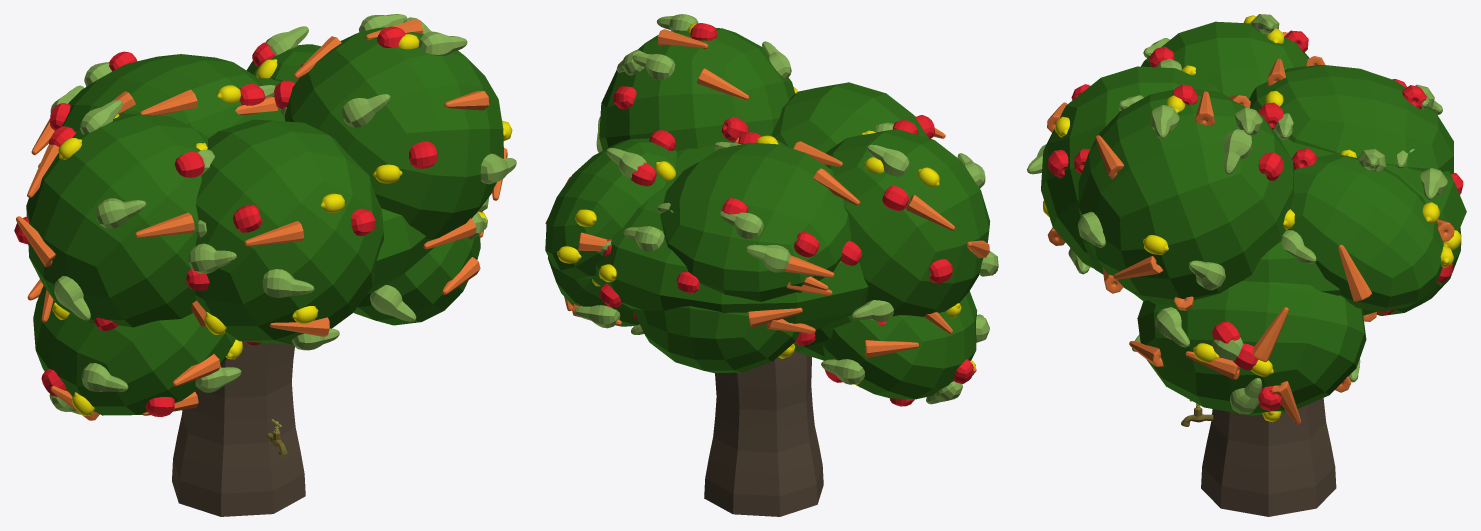
File: TreeBasic3.glb
The picture shows the model from 3 angles, left to right: view 1: azimuth 30°, elevation 25°; view 2: azimuth 150°, elevation 25°; view 3: azimuth 270°, elevation 25°; orthographic projection. The views are drawn at different scales.
Parts seen in each view (by area): view 1: Roundcube.003, Cylinder, Cube.030, Cube.046, Cube.051, Cube.020, Cube.049, Cube.025, Cube.063, Cube.056, Carrot.025, Carrot.045 (+16 smaller); view 2: Roundcube.003, Cylinder, Cube.057, Cube.029, Cube.050, Cube.061, Cube.060, Cube.003, Cube.017, Cube.031, Carrot.060, Cube.041 (+9 smaller); view 3: Roundcube.003, Cylinder, Cube.055, Cube.018, Carrot.038, Cube.023, Cube.053, Carrot.017, Cube.056, Cube.052, Cube.039, Cube.003 (+7 smaller).
Part boxes in pixels (x1=…): Roundcube.003: x1=26, y1=27, x2=503, y2=415; Cylinder: x1=172, y1=341, x2=305, y2=516; Cube.030: x1=95, y1=198, x2=146, y2=228; Cube.046: x1=262, y1=269, x2=314, y2=297; Cube.051: x1=342, y1=94, x2=390, y2=127; Cube.020: x1=370, y1=285, x2=416, y2=321; Cube.049: x1=188, y1=243, x2=236, y2=273; Cube.025: x1=54, y1=276, x2=90, y2=320; Cube.063: x1=81, y1=363, x2=128, y2=391; Cube.056: x1=419, y1=31, x2=467, y2=55; Carrot.025: x1=135, y1=212, x2=194, y2=237; Carrot.045: x1=244, y1=221, x2=304, y2=246; Roundcube.003: x1=545, y1=27, x2=990, y2=399; Cylinder: x1=704, y1=350, x2=823, y2=516; Cube.057: x1=746, y1=244, x2=790, y2=272; Cube.029: x1=867, y1=144, x2=909, y2=176; Cube.050: x1=632, y1=53, x2=675, y2=79; Cube.061: x1=821, y1=359, x2=864, y2=384; Cube.060: x1=719, y1=211, x2=763, y2=238; Cube.003: x1=623, y1=226, x2=664, y2=251; Cube.017: x1=574, y1=305, x2=620, y2=328; Cube.031: x1=852, y1=300, x2=893, y2=321; Carrot.060: x1=864, y1=340, x2=918, y2=357; Cube.041: x1=606, y1=148, x2=646, y2=178; Roundcube.003: x1=1041, y1=21, x2=1466, y2=415; Cylinder: x1=1201, y1=398, x2=1336, y2=516; Cube.055: x1=1224, y1=129, x2=1252, y2=174; Cube.018: x1=1155, y1=307, x2=1189, y2=347; Carrot.038: x1=1338, y1=244, x2=1371, y2=301; Cube.023: x1=1230, y1=378, x2=1262, y2=414; Cube.053: x1=1188, y1=260, x2=1225, y2=290; Carrot.017: x1=1253, y1=307, x2=1288, y2=362; Cube.056: x1=1150, y1=105, x2=1179, y2=138; Cube.052: x1=1077, y1=211, x2=1105, y2=247; Cube.039: x1=1281, y1=230, x2=1316, y2=263; Cube.003: x1=1420, y1=167, x2=1447, y2=200.
Size of the model in its own units: 4.89 by 4.74 by 4.16.
